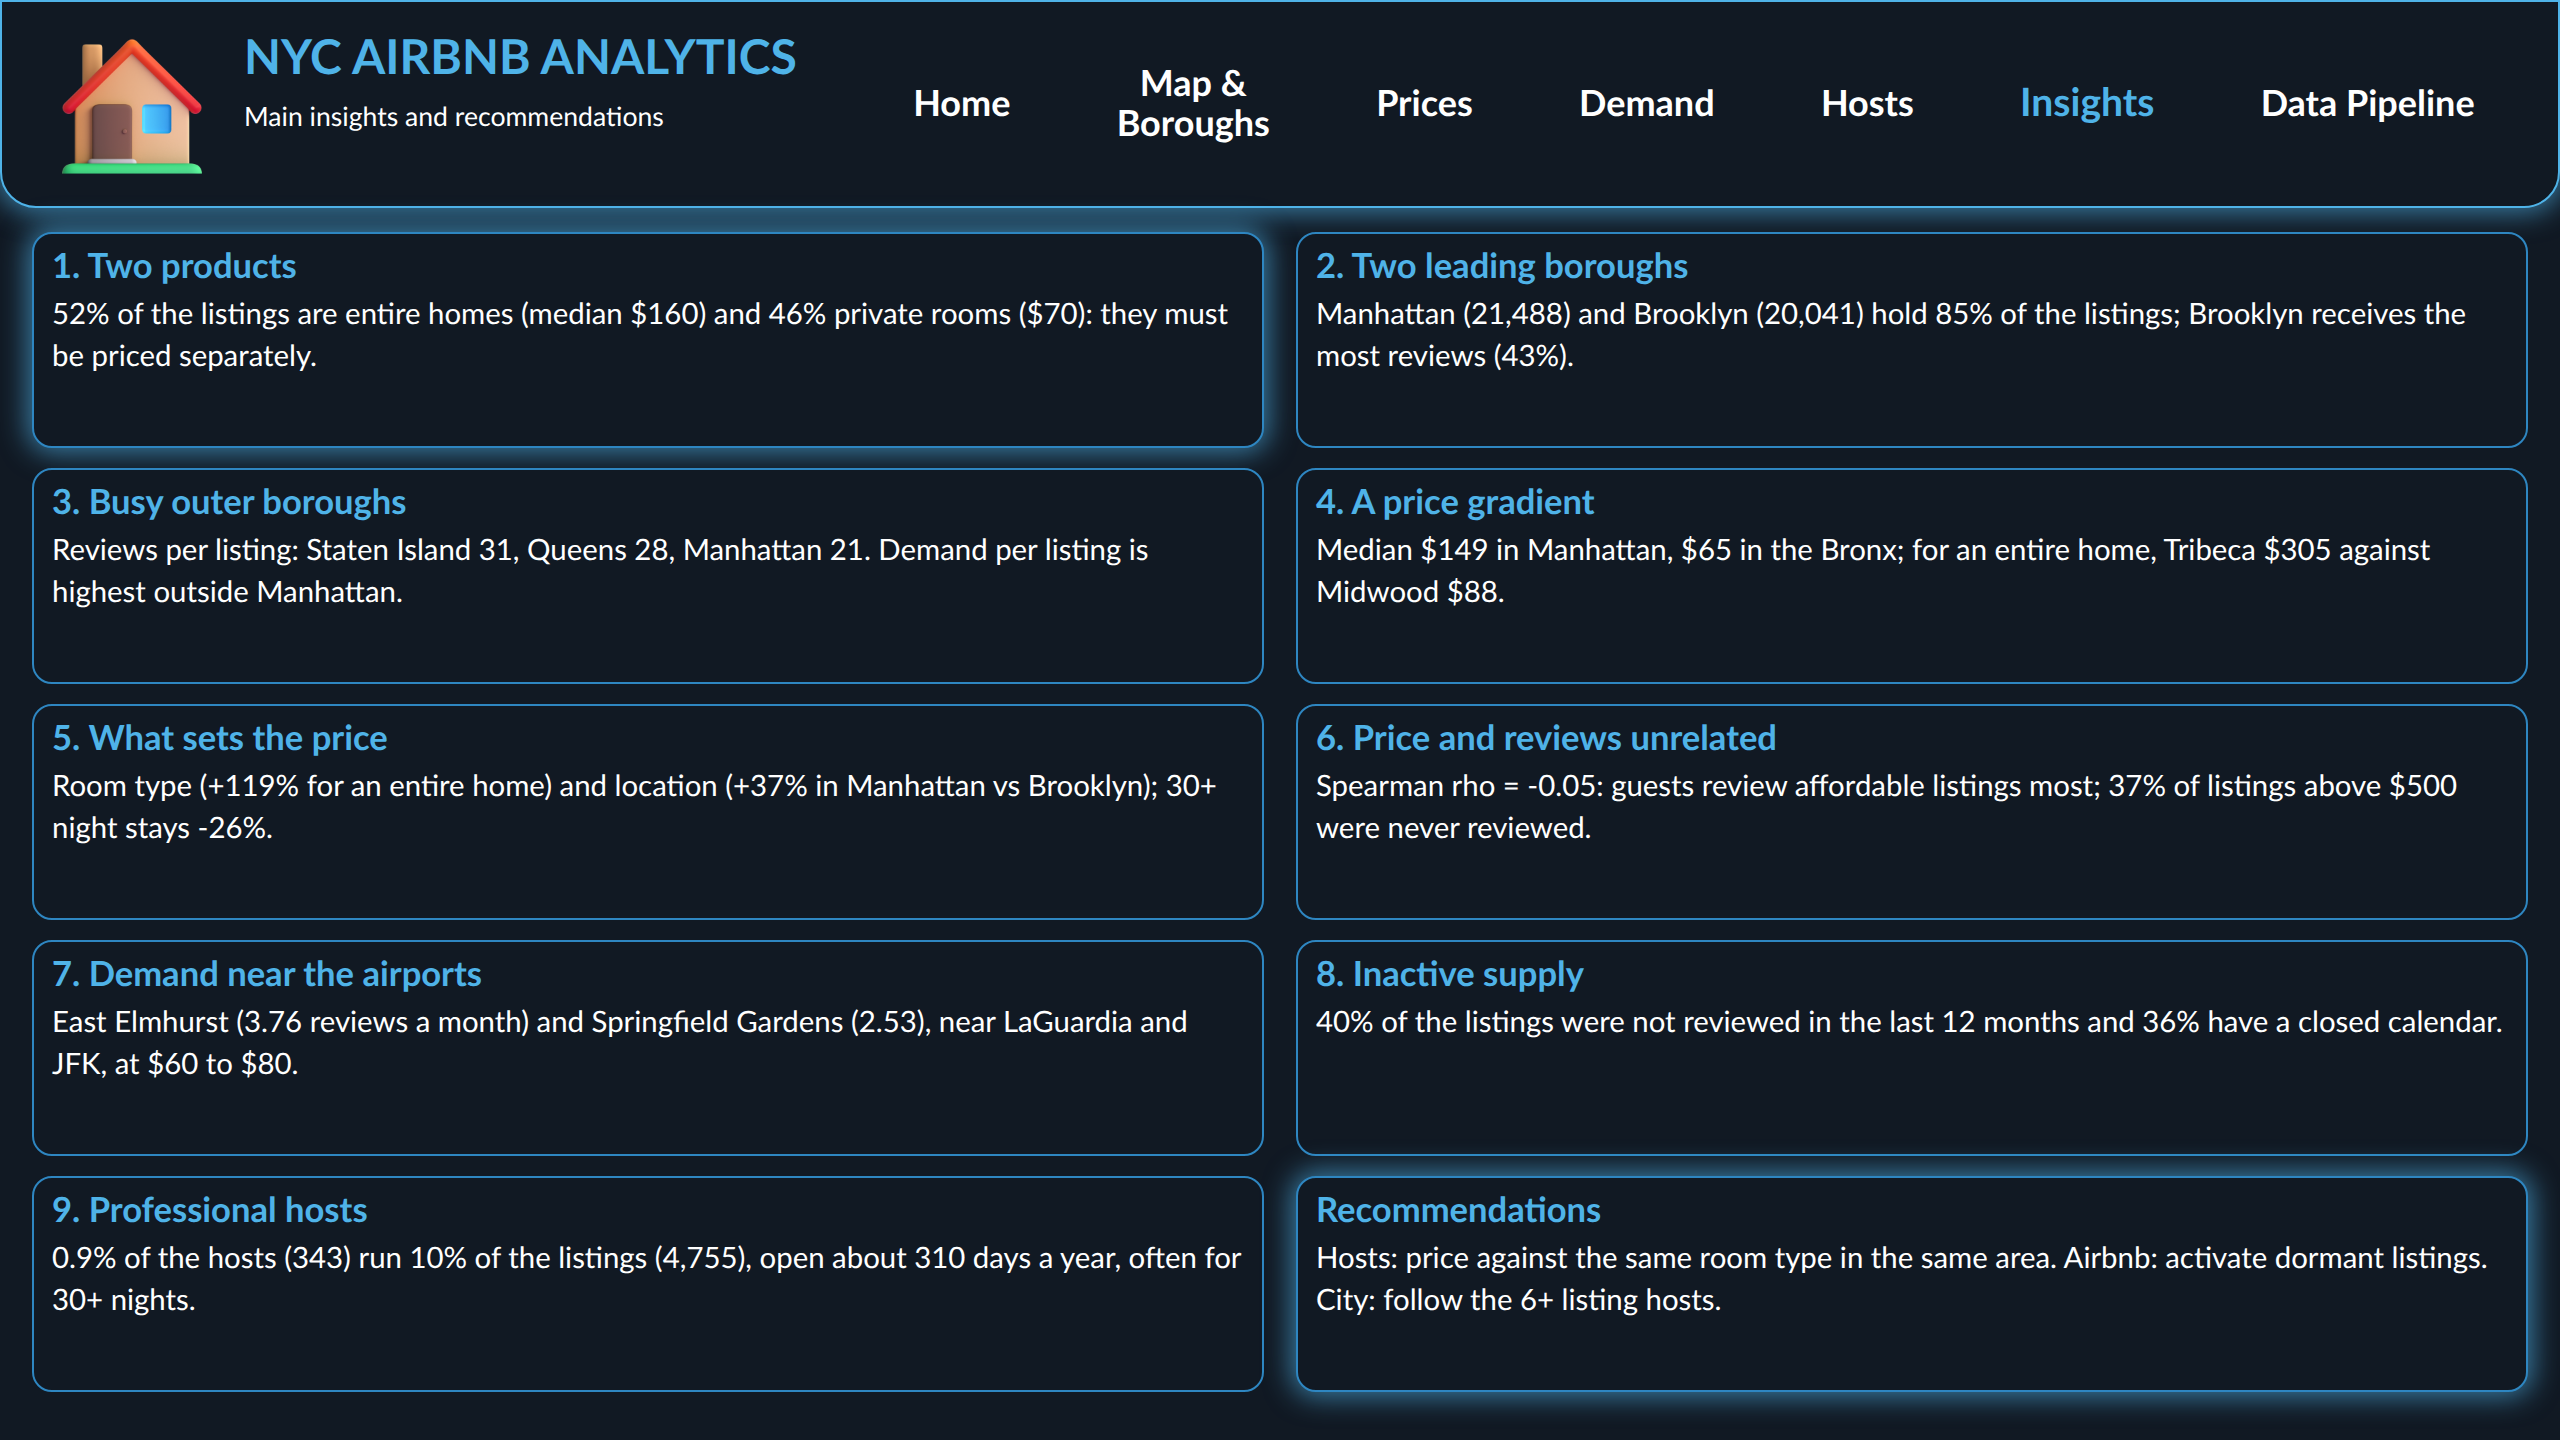

This screenshot's page, from the dashboard's own definition file:
{"tool":"powerbi","page":{"name":"Insights","canvas":[1280,720],"ordinal":5},"visuals":[{"type":"shape","box":[0,0,1280,104],"z":1000},{"type":"image","box":[18,12,96,80],"z":2000},{"type":"textbox","box":[122,14,300,76],"z":3000},{"type":"pageNavigator","box":[430,26,834,52],"z":4000},{"type":"shape","box":[16,116,616,108],"z":5000},{"type":"textbox","box":[26,122,596,96],"z":6000},{"type":"shape","box":[648,116,616,108],"z":7000},{"type":"textbox","box":[658,122,596,96],"z":8000},{"type":"shape","box":[16,234,616,108],"z":9000},{"type":"textbox","box":[26,240,596,96],"z":10000},{"type":"shape","box":[648,234,616,108],"z":11000},{"type":"textbox","box":[658,240,596,96],"z":12000},{"type":"shape","box":[16,352,616,108],"z":13000},{"type":"textbox","box":[26,358,596,96],"z":14000},{"type":"shape","box":[648,352,616,108],"z":15000},{"type":"textbox","box":[658,358,596,96],"z":16000},{"type":"shape","box":[16,470,616,108],"z":17000},{"type":"textbox","box":[26,476,596,96],"z":18000},{"type":"shape","box":[648,470,616,108],"z":19000},{"type":"textbox","box":[658,476,596,96],"z":20000},{"type":"shape","box":[16,588,616,108],"z":21000},{"type":"textbox","box":[26,594,596,96],"z":22000},{"type":"shape","box":[648,588,616,108],"z":23000},{"type":"textbox","box":[658,594,596,96],"z":24000}]}

Visuals, with their boxes in screenshot pixels (x1, y1, x2, y2), scaled from the page's 1280x720 canvas onto the 2560x1440 screenshot:
shape: 0, 0, 2559, 208
image: 36, 24, 228, 184
textbox: 244, 28, 844, 180
pageNavigator: 860, 52, 2528, 156
shape: 32, 232, 1264, 448
textbox: 52, 244, 1244, 436
shape: 1296, 232, 2528, 448
textbox: 1316, 244, 2508, 436
shape: 32, 468, 1264, 684
textbox: 52, 480, 1244, 672
shape: 1296, 468, 2528, 684
textbox: 1316, 480, 2508, 672
shape: 32, 704, 1264, 920
textbox: 52, 716, 1244, 908
shape: 1296, 704, 2528, 920
textbox: 1316, 716, 2508, 908
shape: 32, 940, 1264, 1156
textbox: 52, 952, 1244, 1144
shape: 1296, 940, 2528, 1156
textbox: 1316, 952, 2508, 1144
shape: 32, 1176, 1264, 1392
textbox: 52, 1188, 1244, 1380
shape: 1296, 1176, 2528, 1392
textbox: 1316, 1188, 2508, 1380
